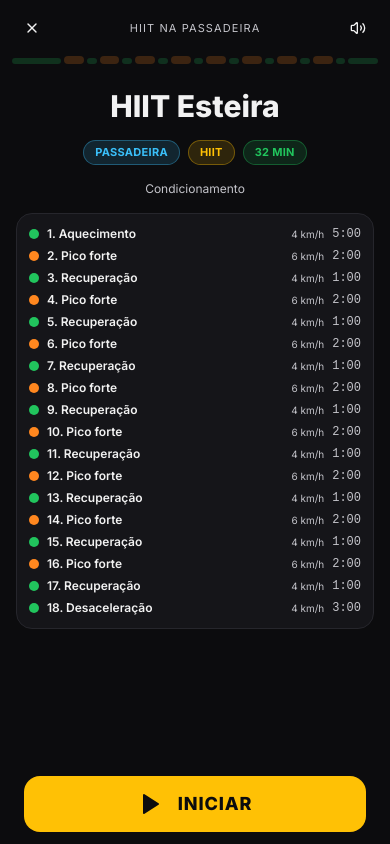
Test: Execução do cardio — tela cheia › mostra as 18 fases, o pico com 6 km/h e a recuperação a seguir
Expected: the element with test id "cardio-pre-screen" shows "Pico forte", [61,248,117,262]
Click the button "Iniciar". click: (195, 804)
box: [24,776,366,832]
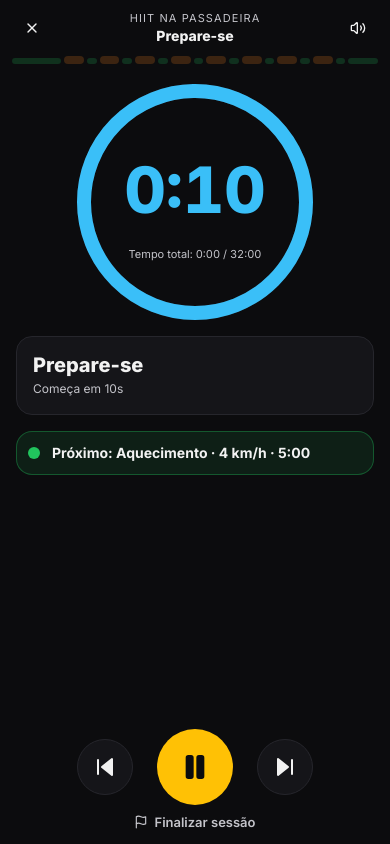
Now the element with test id "cardio-next-card" shows "Próximo: Aquecimento", box [16,431,374,475]
Click the button named "Próxima fase". click: (285, 766)
box: [257,738,313,794]
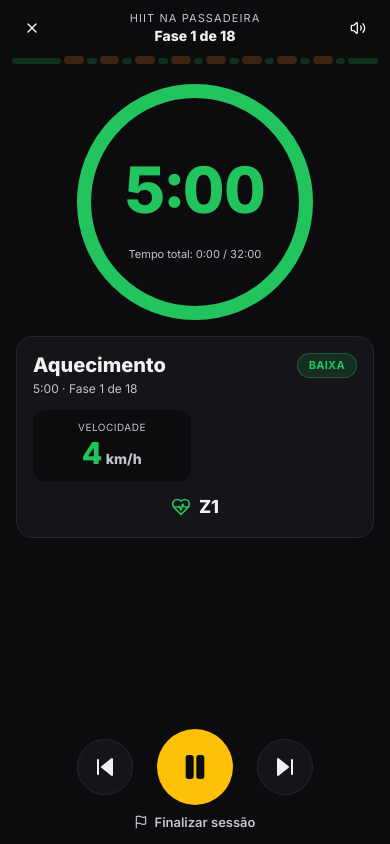
Now the text with test id "cardio-phase-count" reads "Fase 1 de 18", box [155,27,236,44]
Click the button named "Próxima fase". click: (285, 766)
box: [257,738,313,794]
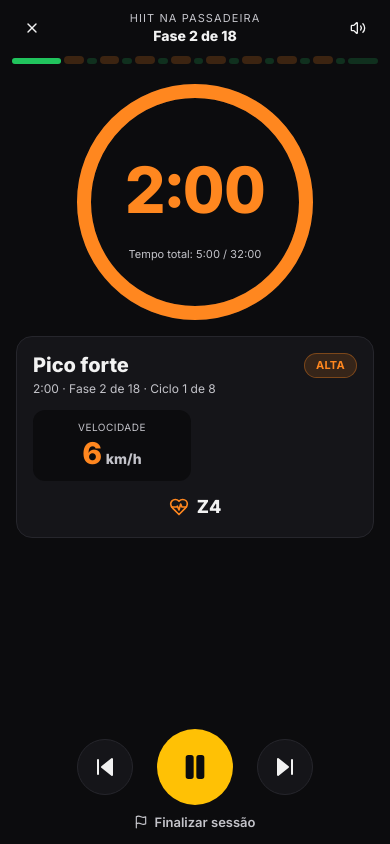
Now the text with test id "cardio-phase-name" reads "Pico forte", box [33,353,129,377]
Now the text with test id "cardio-intensity-tag" reads "Alta", box [316,358,345,372]
Now the text with test id "cardio-ring-time" reads "2:00", box [124,151,266,228]
Click the button named "Fase anterior". click: (105, 766)
box: [77,738,133,794]
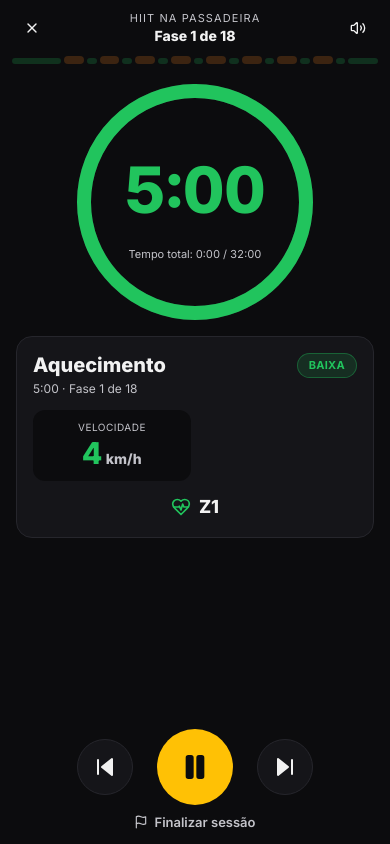
Now the text with test id "cardio-phase-name" reads "Aquecimento", box [33,353,166,377]
